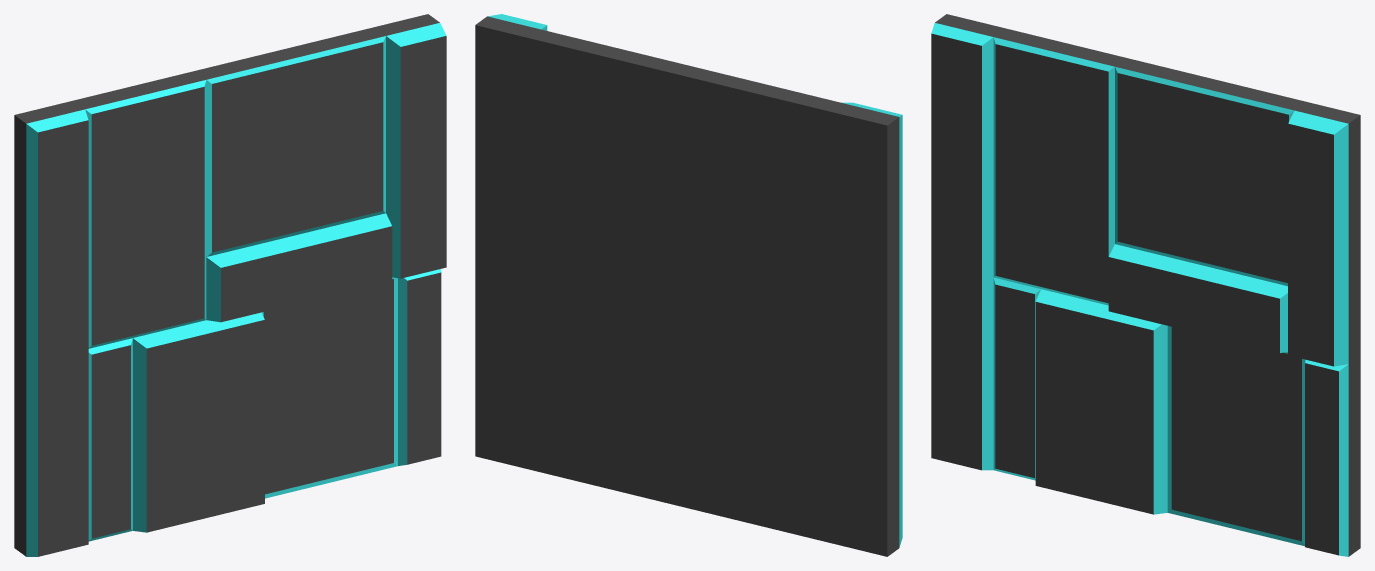
File: HJD_SFB_Wall_03.fbx
The picture shows the model from 3 angles, left to right: view 1: azimuth 30°, elevation 25°; view 2: azimuth 150°, elevation 25°; view 3: azimuth 330°, elevation 25°; orthographic projection.
Visible parts, largest first — view 1: HJD_SFB_Asset; view 2: HJD_SFB_Asset; view 3: HJD_SFB_Asset.
Part boxes in pixels (bbox=[...]): HJD_SFB_Asset: bbox=[14, 14, 446, 556]; HJD_SFB_Asset: bbox=[475, 14, 902, 556]; HJD_SFB_Asset: bbox=[931, 14, 1360, 556].
Size of the model in its own units: 100 by 100 by 9.41.
